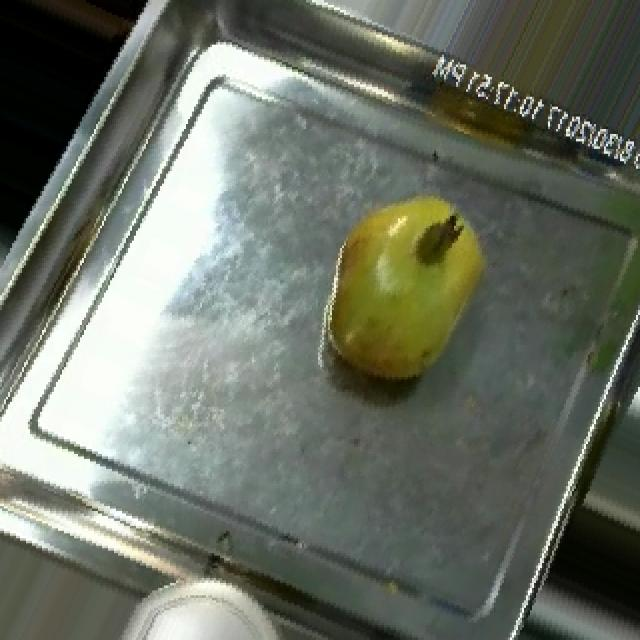fruit: (282, 161, 522, 412)
